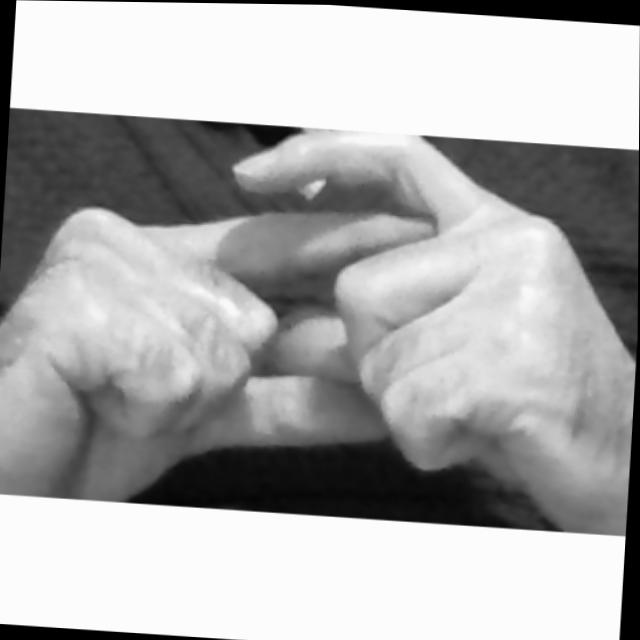G-: (0, 108, 639, 534)
